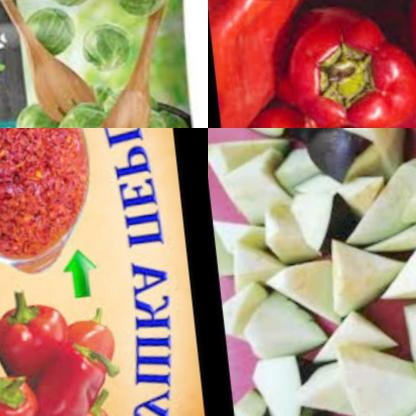bell pepper: (208, 0, 416, 128), (0, 128, 95, 264), (0, 283, 74, 394), (24, 347, 104, 416), (55, 307, 117, 384), (13, 393, 114, 416), (0, 371, 38, 416)
brus capusta: (0, 91, 189, 128), (18, 2, 85, 61), (78, 24, 128, 76), (102, 0, 173, 30), (23, 0, 99, 20)
eggplant: (208, 128, 416, 416)
